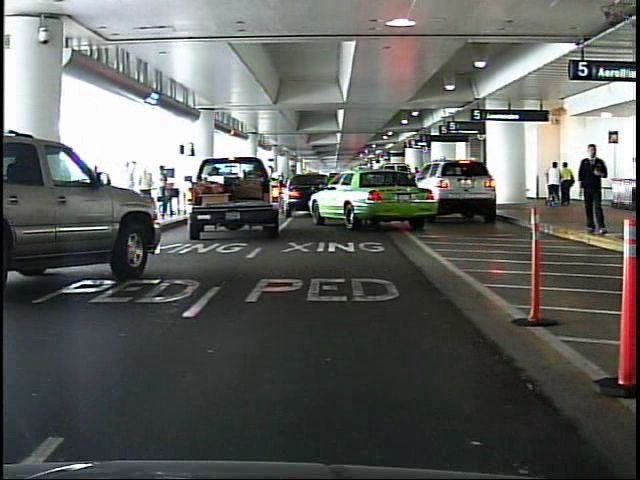person: (578, 139, 614, 242), (158, 162, 178, 221), (547, 158, 562, 206), (561, 159, 574, 209)
